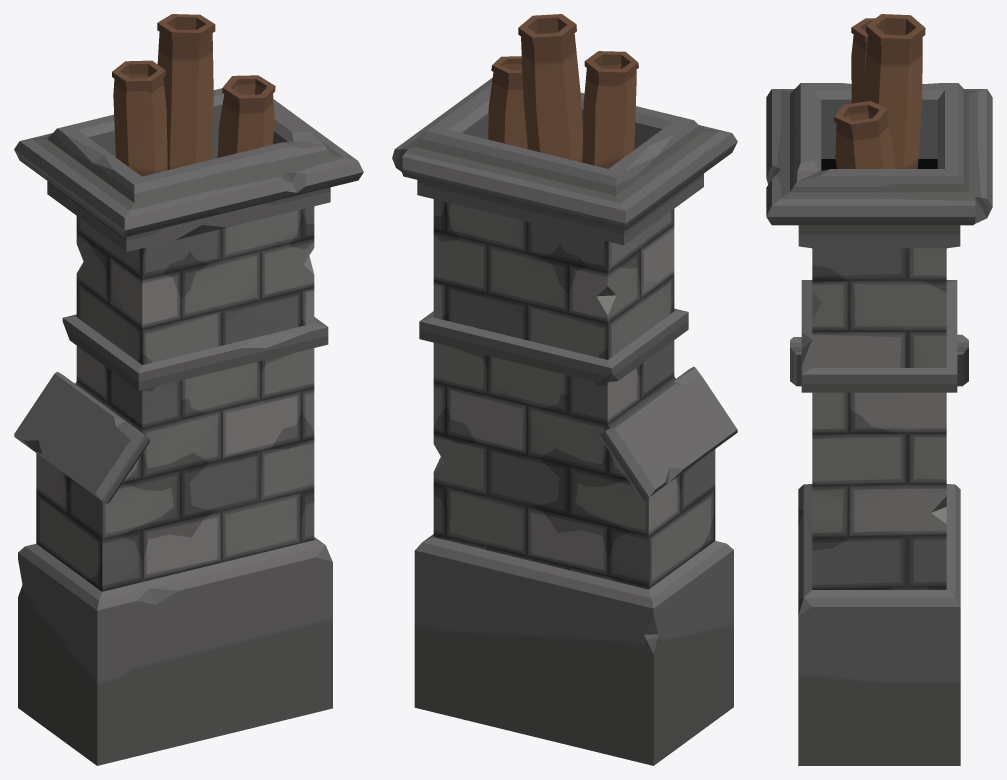
The model's file is SM_Bld_Chimney_Top_01.fbx.
3 views of the same model, side by side, from view 1: azimuth 30°, elevation 25°; view 2: azimuth 150°, elevation 25°; view 3: azimuth 270°, elevation 25° (orthographic). The views are drawn at different scales.
Parts seen in each view (by area): view 1: SM_Bld_Chimney_Top_01; view 2: SM_Bld_Chimney_Top_01; view 3: SM_Bld_Chimney_Top_01.
Part boxes in pixels (box(x1,y1,x2,y2)): SM_Bld_Chimney_Top_01: box(14, 14, 363, 765); SM_Bld_Chimney_Top_01: box(392, 14, 737, 765); SM_Bld_Chimney_Top_01: box(766, 14, 992, 765).
Size of the model in its own units: 201 by 510 by 151.
